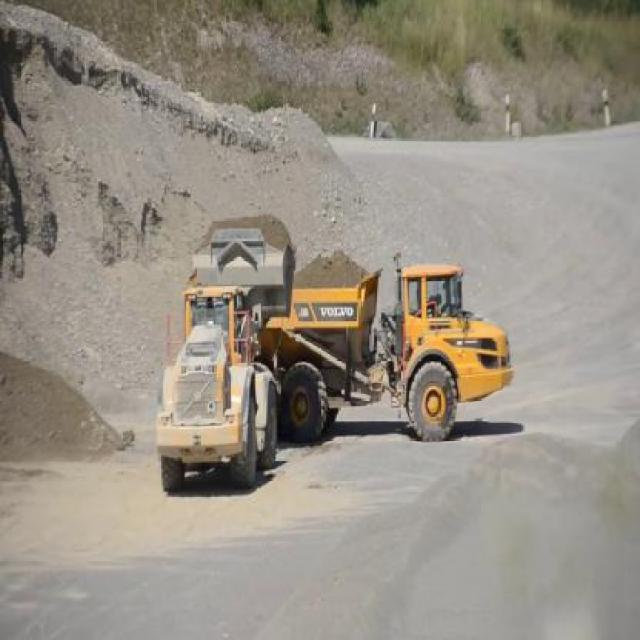Dump Truck: (275, 250, 513, 445)
Loader: (152, 216, 282, 492)
